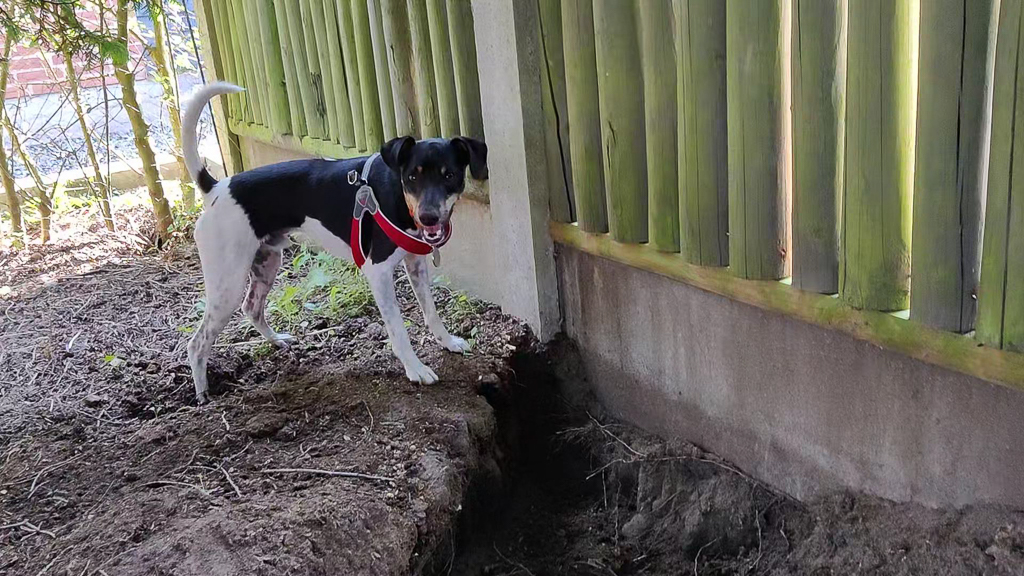Dog: (173, 71, 510, 417)
